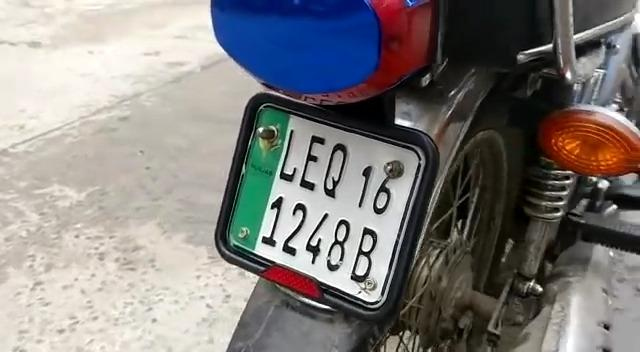plate: (230, 103, 420, 303)
